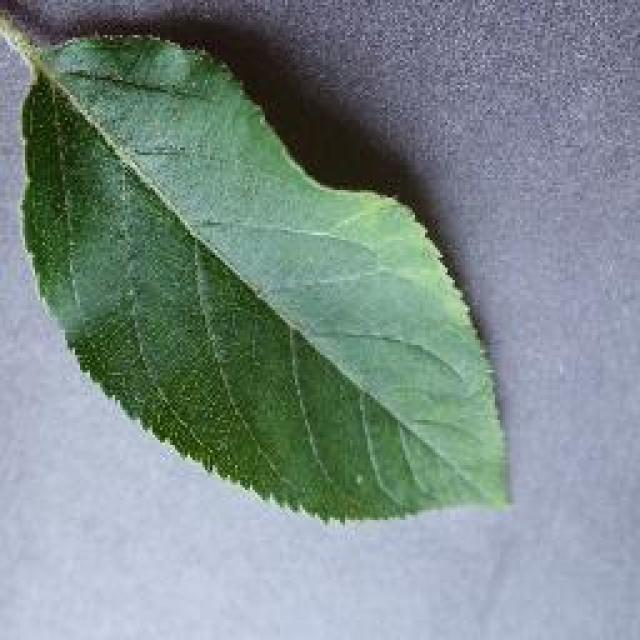apple healthy: (0, 3, 515, 525)
